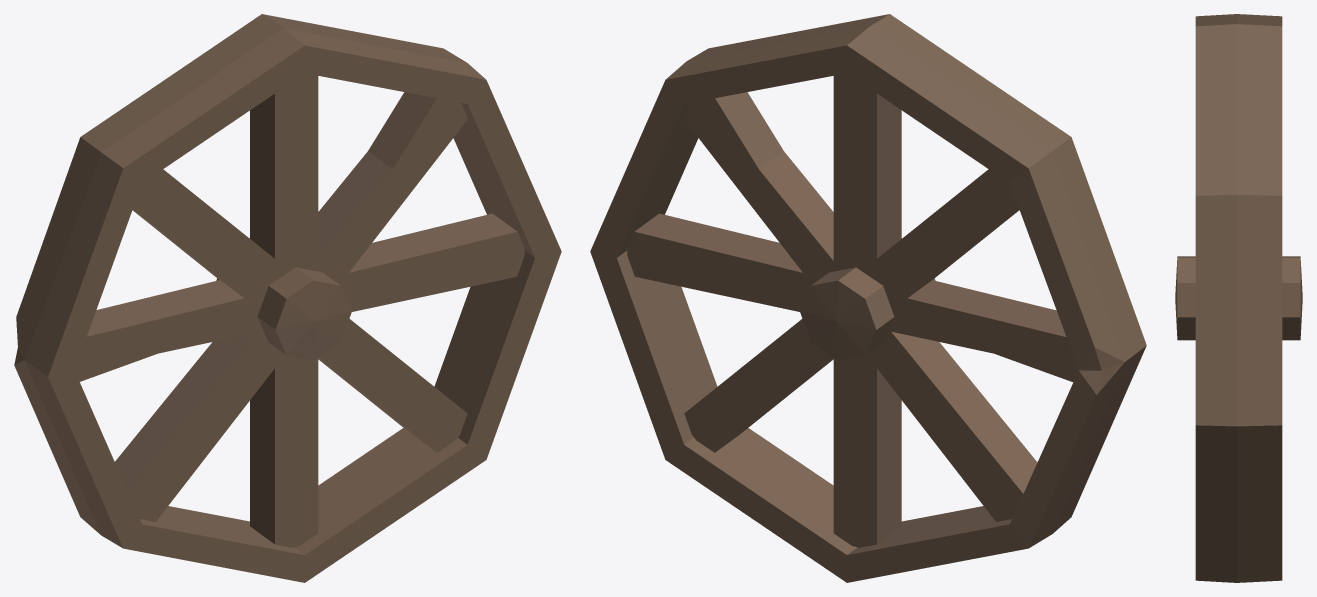
The model's file is Wheel_1.fbx.
3 renders of one model, left to right at view 1: azimuth 30°, elevation 25°; view 2: azimuth 150°, elevation 25°; view 3: azimuth 270°, elevation 25°, orthographic.
Parts seen in each view (by area): view 1: Wheel_1; view 2: Wheel_1; view 3: Wheel_1.
Part boxes in pixels (<box>): Wheel_1: <box>14,14,561,582</box>; Wheel_1: <box>590,14,1146,582</box>; Wheel_1: <box>1175,14,1302,582</box>.
Bounding box in the file's own units: 136 × 28.7 × 136.
